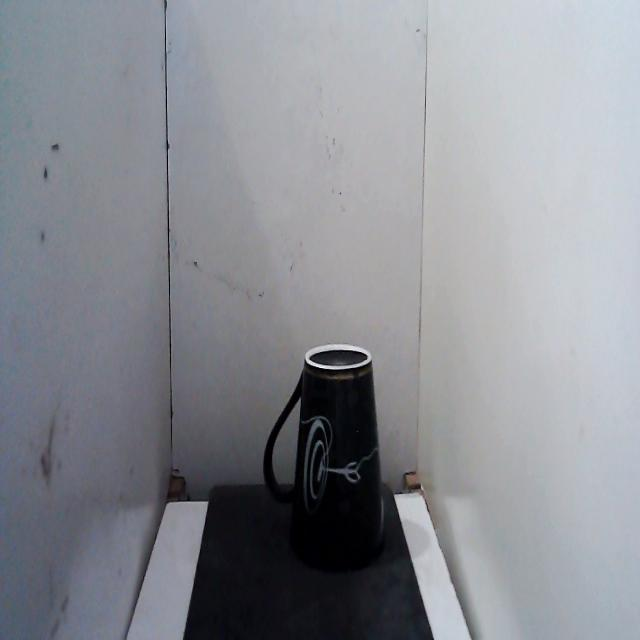vidro: (256, 332, 394, 590)
